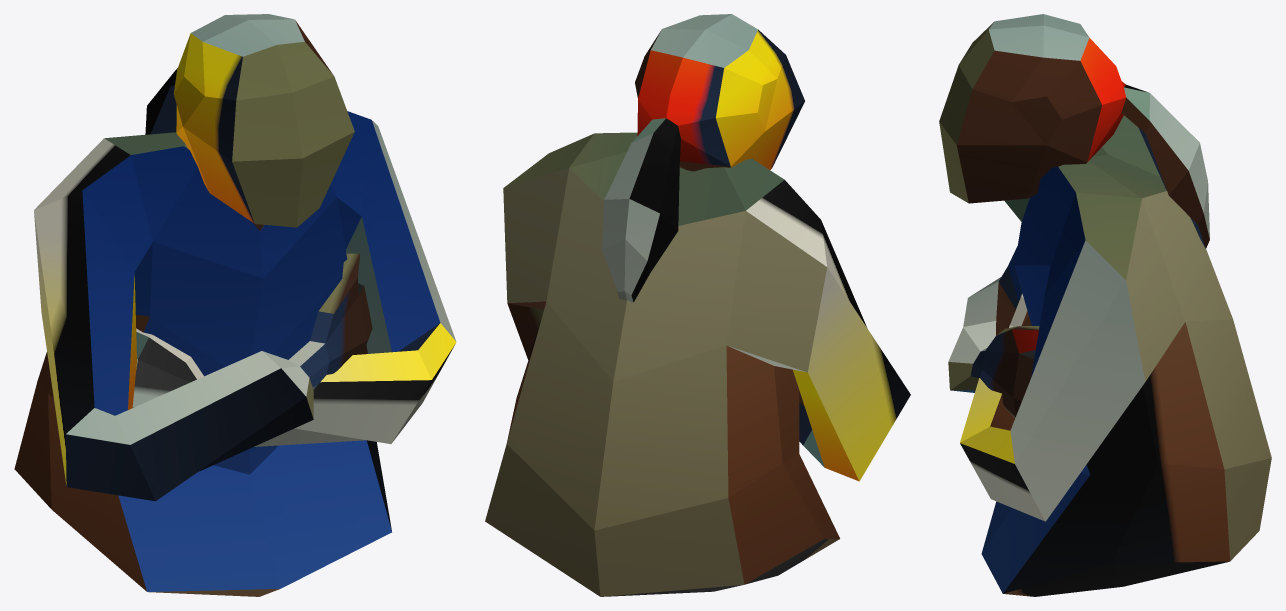
File: lostGirlBody.obj
3 views of the same model, side by side, from view 1: azimuth 30°, elevation 25°; view 2: azimuth 150°, elevation 25°; view 3: azimuth 270°, elevation 25° (orthographic). The views are drawn at different scales.
Visible parts, largest first — view 1: Cube.010; view 2: Cube.010; view 3: Cube.010.
Part boxes in pixels (box(x1,y1,x2,y2)): Cube.010: box(14, 14, 456, 596); Cube.010: box(485, 14, 910, 596); Cube.010: box(939, 14, 1271, 596).
Bounding box in the file's own units: 2 × 2.76 × 1.51.
Materials: 1 (1 with a texture image).
